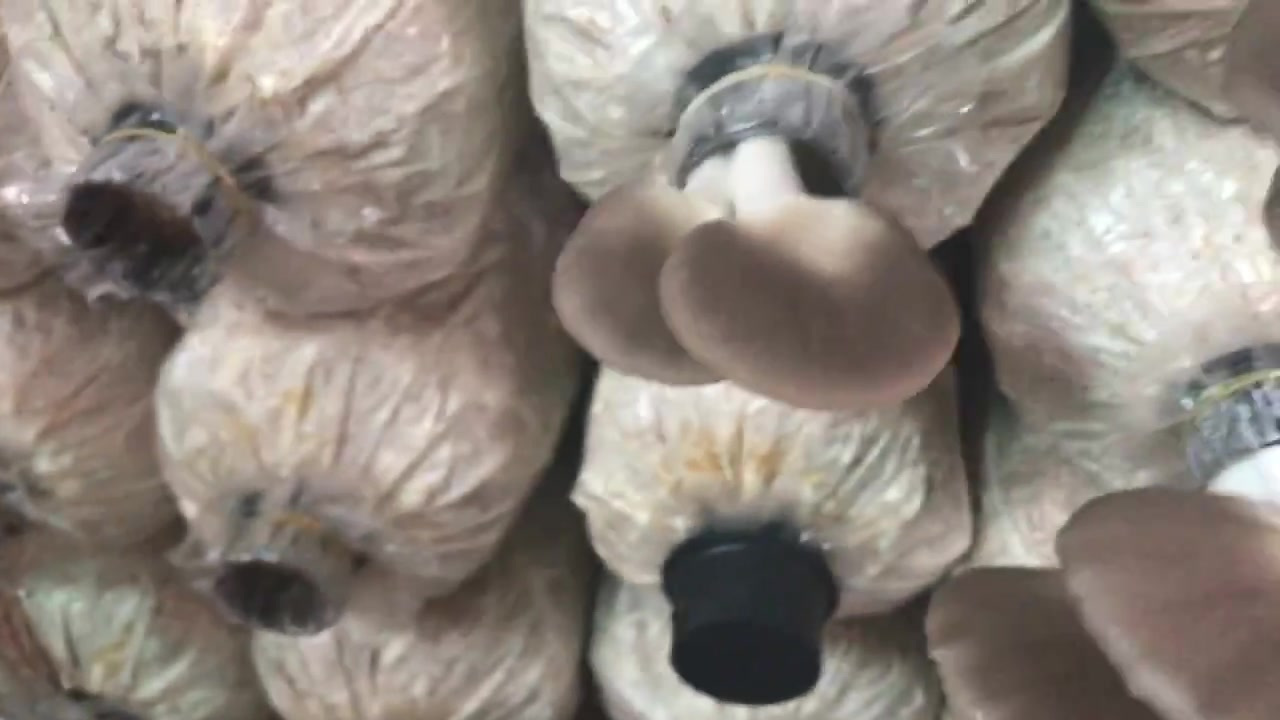nam: (545, 55, 968, 424), (924, 357, 1280, 714)
